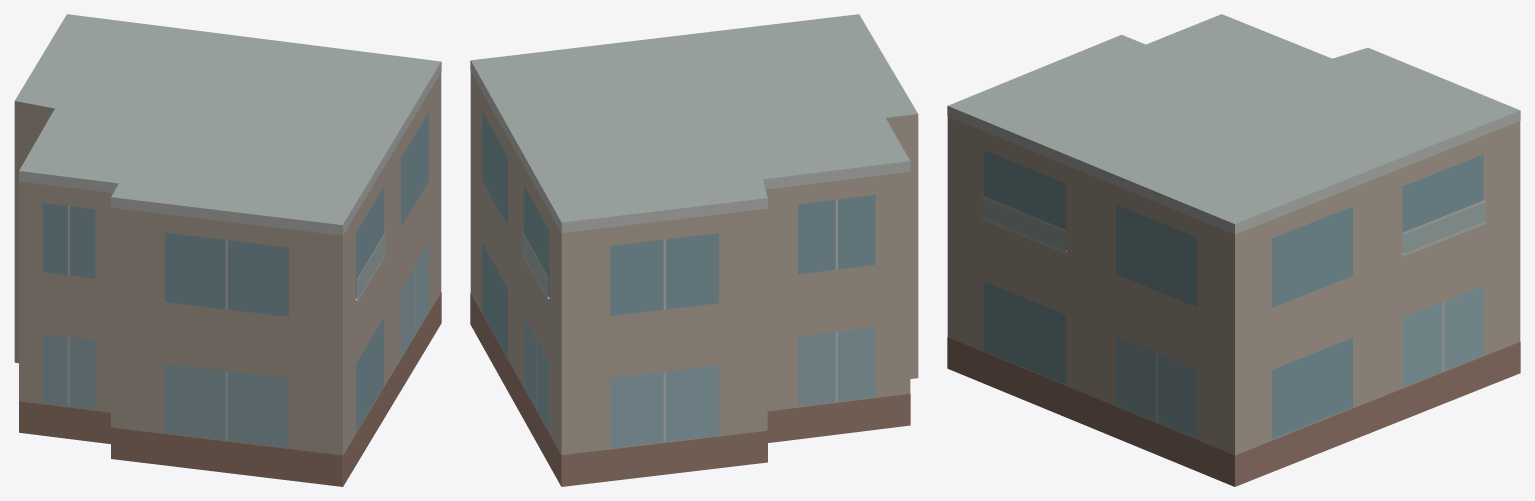
Rendered from survey-upis-32645357.glb.
3 renders of one model, left to right at view 1: azimuth 30°, elevation 25°; view 2: azimuth 150°, elevation 25°; view 3: azimuth 270°, elevation 25°, orthographic.
Visible parts, largest first — view 1: survey-upis-32645357.tmp; view 2: survey-upis-32645357.tmp; view 3: survey-upis-32645357.tmp.
Part boxes in pixels (<box>): survey-upis-32645357.tmp: <box>14,14,441,486</box>; survey-upis-32645357.tmp: <box>470,14,918,486</box>; survey-upis-32645357.tmp: <box>947,14,1520,486</box>.
Bounding box in the file's own units: 10.47 × 6.1 × 12.06.
